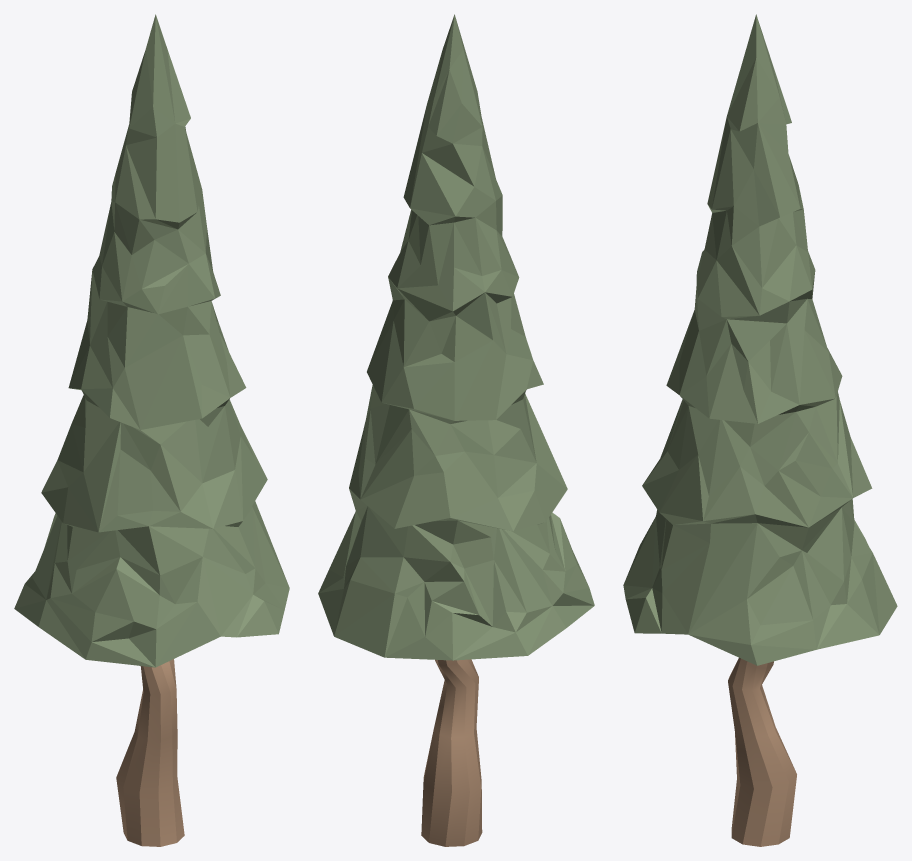
The model's file is Pine_Tree_5.fbx.
The picture shows the model from 3 angles, left to right: view 1: azimuth 30°, elevation 25°; view 2: azimuth 150°, elevation 25°; view 3: azimuth 270°, elevation 25°; orthographic projection.
Parts seen in each view (by area): view 1: Pine_Tree_5; view 2: Pine_Tree_5; view 3: Pine_Tree_5.
Part boxes in pixels (x1,y1,x2,y2): Pine_Tree_5: [14, 14, 289, 846]; Pine_Tree_5: [318, 14, 594, 846]; Pine_Tree_5: [623, 14, 897, 846].
Bounding box in the file's own units: 1.5 × 4.97 × 1.51.
